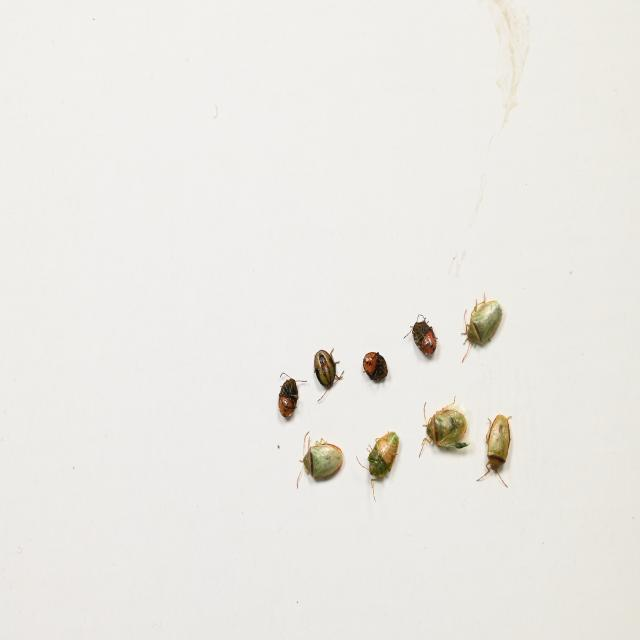stinkbug: (419, 396, 469, 466), (461, 292, 504, 365), (357, 430, 400, 502), (296, 429, 344, 488), (476, 412, 511, 488)
